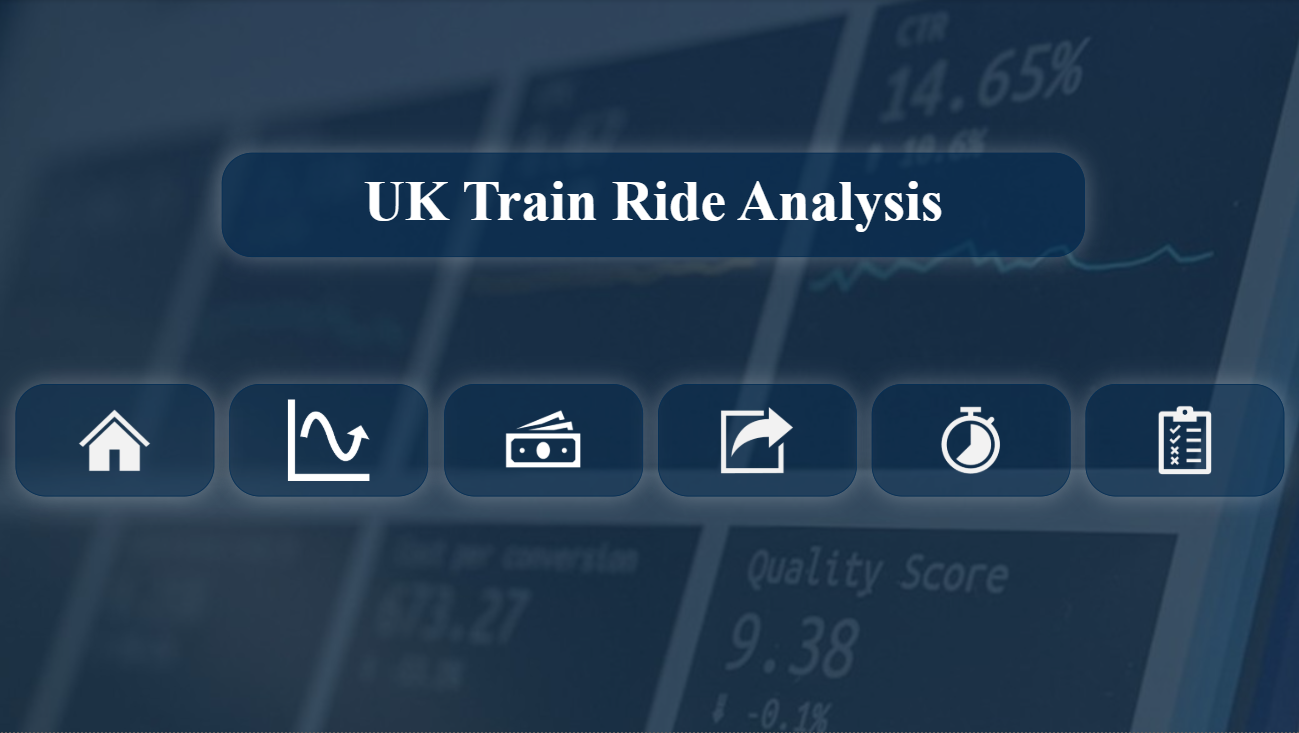

The page's visual inventory and layout, read from the dashboard file:
{"tool":"powerbi","page":{"name":"Home","canvas":[1280,720],"ordinal":0},"visuals":[{"type":"textbox","title":" Customer Impact on delay and refund","box":[220.1,150.4,847.4,102.7],"z":0},{"type":"image","box":[227.5,378.5,195,110],"z":1000},{"type":"image","box":[437.5,378.5,195,110],"z":2000},{"type":"image","box":[647.4,378.5,195,110],"z":3000},{"type":"image","box":[857.4,378.5,195,110],"z":4000},{"type":"image","box":[1067.3,378.5,195,110],"z":5000},{"type":"image","box":[17.6,378.5,195,110],"z":6000}]}

Visuals, with their boxes in screenshot pixels (x1, y1, x2, y2), scaled from the page's 1280x720 canvas onto the 1299x733 screenshot:
" Customer Impact on delay and refund" textbox: x1=223 y1=153 x2=1083 y2=258
image: x1=231 y1=385 x2=429 y2=497
image: x1=444 y1=385 x2=642 y2=497
image: x1=657 y1=385 x2=855 y2=497
image: x1=870 y1=385 x2=1068 y2=497
image: x1=1083 y1=385 x2=1281 y2=497
image: x1=18 y1=385 x2=216 y2=497
